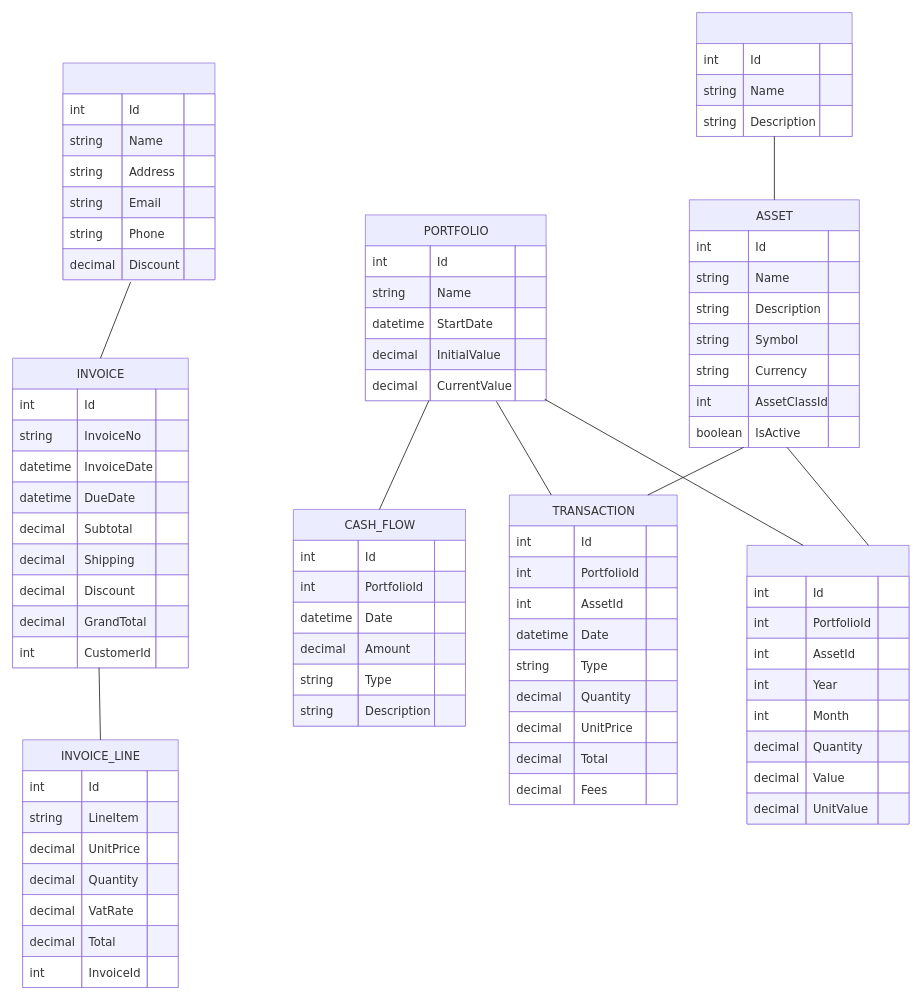
Image size: 922x1000. Some labels were removed from this diagram. The shapes that lost their labels are listed below. From the top down, each one's box as (x1, y1, x2, y2) in pixels, then its label:
(696, 12, 852, 136): ASSET_CLASS
(62, 62, 215, 280): CUSTOMER
(746, 545, 909, 824): ASSET_MONTHLY
